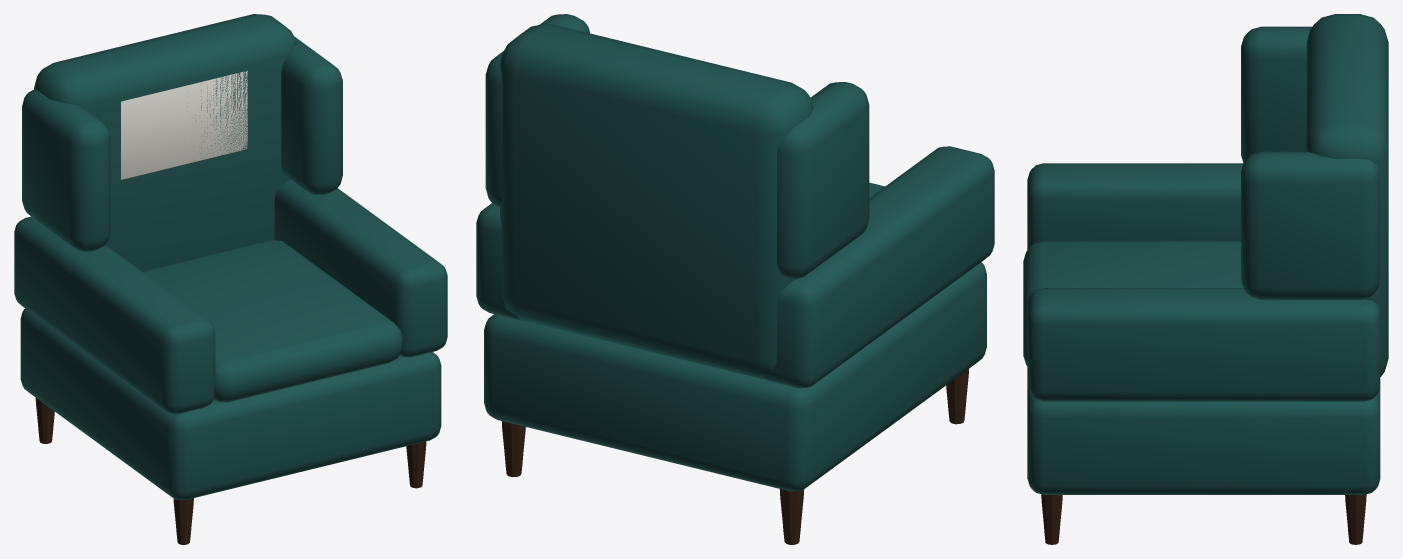
File: mae_armchair.glb
3 views of the same model, side by side, from view 1: azimuth 30°, elevation 25°; view 2: azimuth 150°, elevation 25°; view 3: azimuth 270°, elevation 25° (orthographic). The views are drawn at different scales.
Visible parts, largest first — view 1: mae_armchair; view 2: mae_armchair; view 3: mae_armchair.
Part boxes in pixels (left/top/right/bottom): mae_armchair: left=14, top=14, right=447, bottom=544; mae_armchair: left=476, top=14, right=994, bottom=544; mae_armchair: left=1023, top=14, right=1388, bottom=544.
Bounding box in the file's own units: 0.88 × 1.1 × 0.89.
